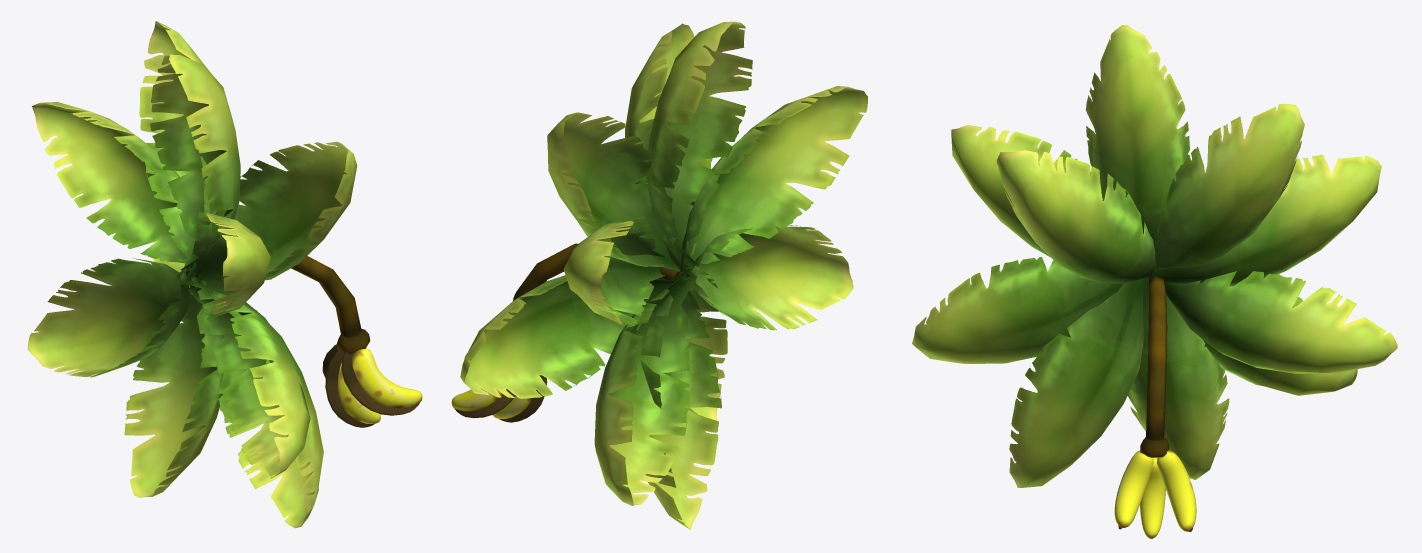
Rendered from Mode_bananes_mur 1.fbx.
The picture shows the model from 3 angles, left to right: view 1: azimuth 30°, elevation 25°; view 2: azimuth 150°, elevation 25°; view 3: azimuth 270°, elevation 25°; orthographic projection. The views are drawn at different scales.
Parts seen in each view (by area): view 1: feuilles1, banane04, branche, banane05; view 2: feuilles1, branche, banane01, banane05; view 3: feuilles1, branche, banane01, banane04, banane05.
Boxes of the visible parts, x1,y1,x2,y2 form: feuilles1: [27, 21, 357, 528]; banane04: [341, 348, 422, 415]; branche: [291, 256, 370, 354]; banane05: [325, 349, 380, 427]; feuilles1: [460, 21, 867, 529]; branche: [513, 243, 678, 300]; banane01: [451, 388, 515, 418]; banane05: [492, 375, 547, 422]; feuilles1: [912, 25, 1397, 487]; branche: [1140, 276, 1169, 457]; banane01: [1157, 450, 1196, 531]; banane04: [1114, 450, 1153, 529]; banane05: [1140, 457, 1165, 538].
Size of the model in its own units: 205 by 314 by 310.
